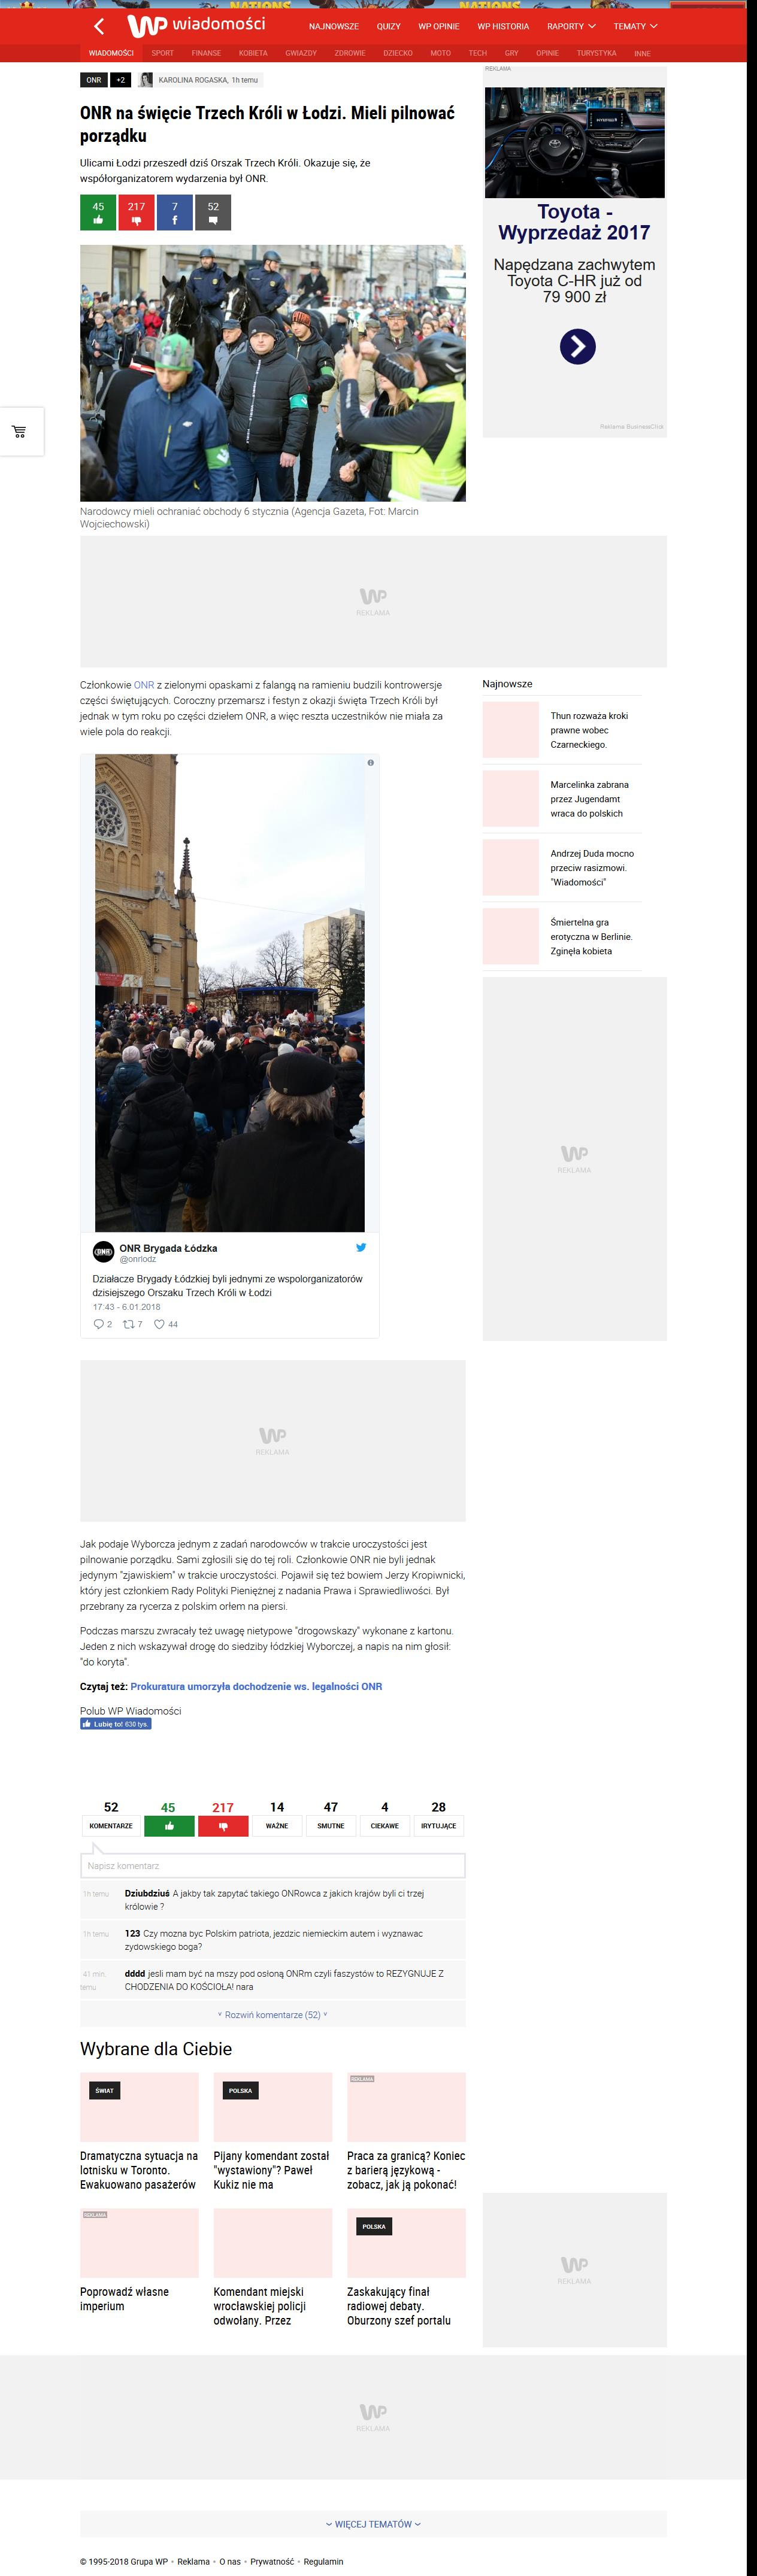title: (80, 105, 456, 146)
